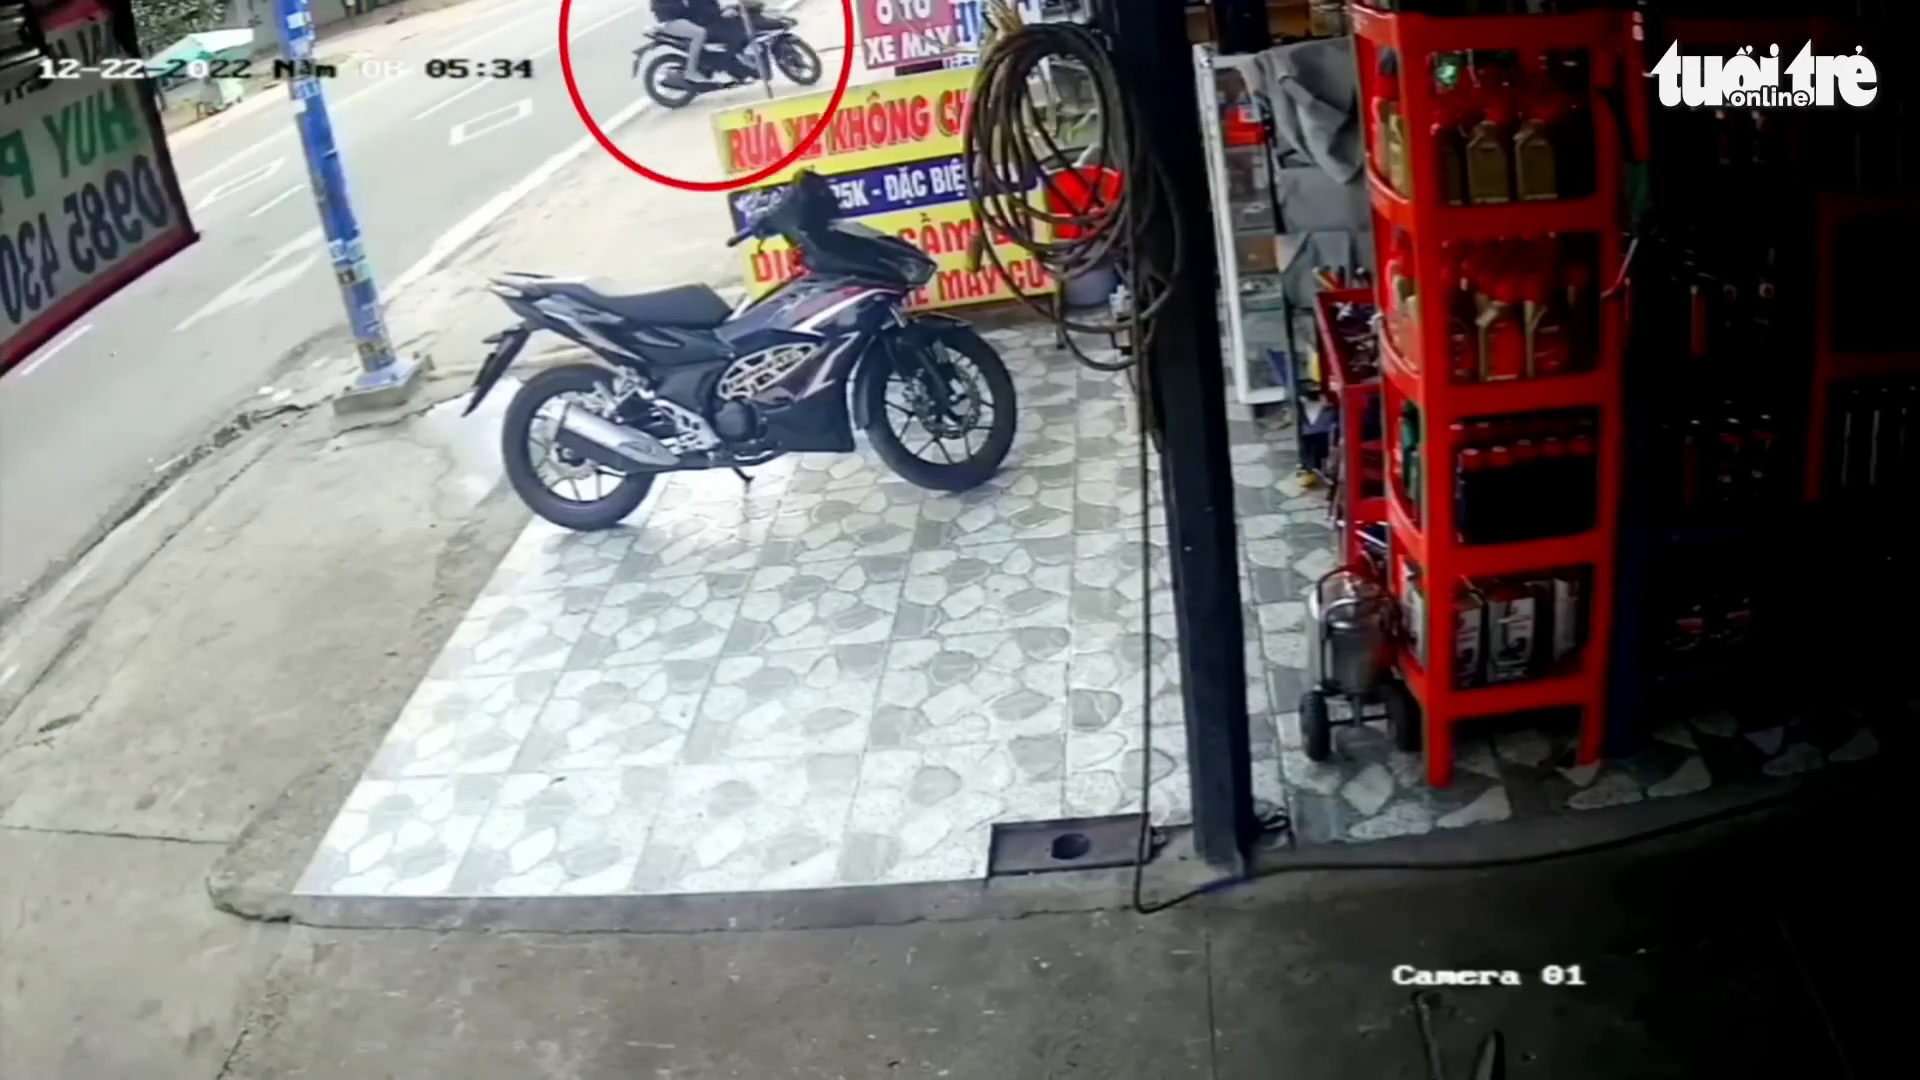Motorcycle: (460, 169, 1019, 531), (632, 1, 822, 109)
